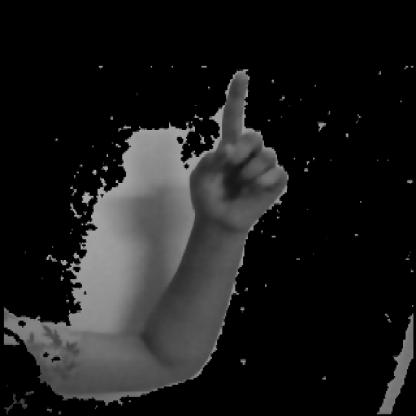one: (139, 63, 329, 302)
